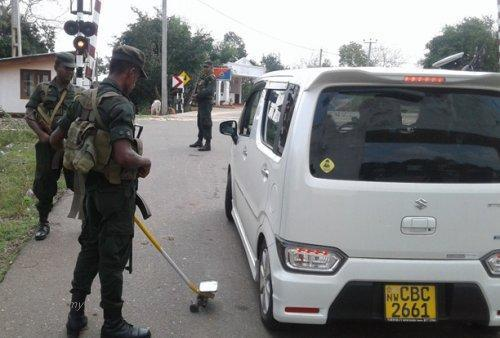license-plate: (383, 283, 435, 316)
